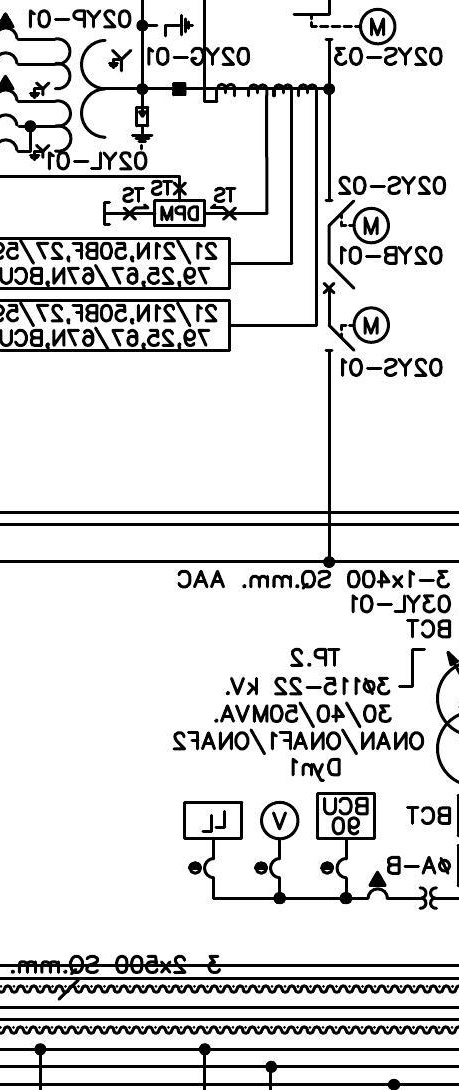115_1way_ds_w_motor: (292, 8, 399, 47), (324, 198, 392, 245), (324, 306, 392, 353)
115_breaker: (322, 263, 356, 295)
115_gs: (154, 13, 195, 38)
115_la: (130, 105, 155, 151)
DPM: (154, 199, 207, 227)
LL: (183, 801, 243, 840)
v_m: (259, 800, 300, 840)
